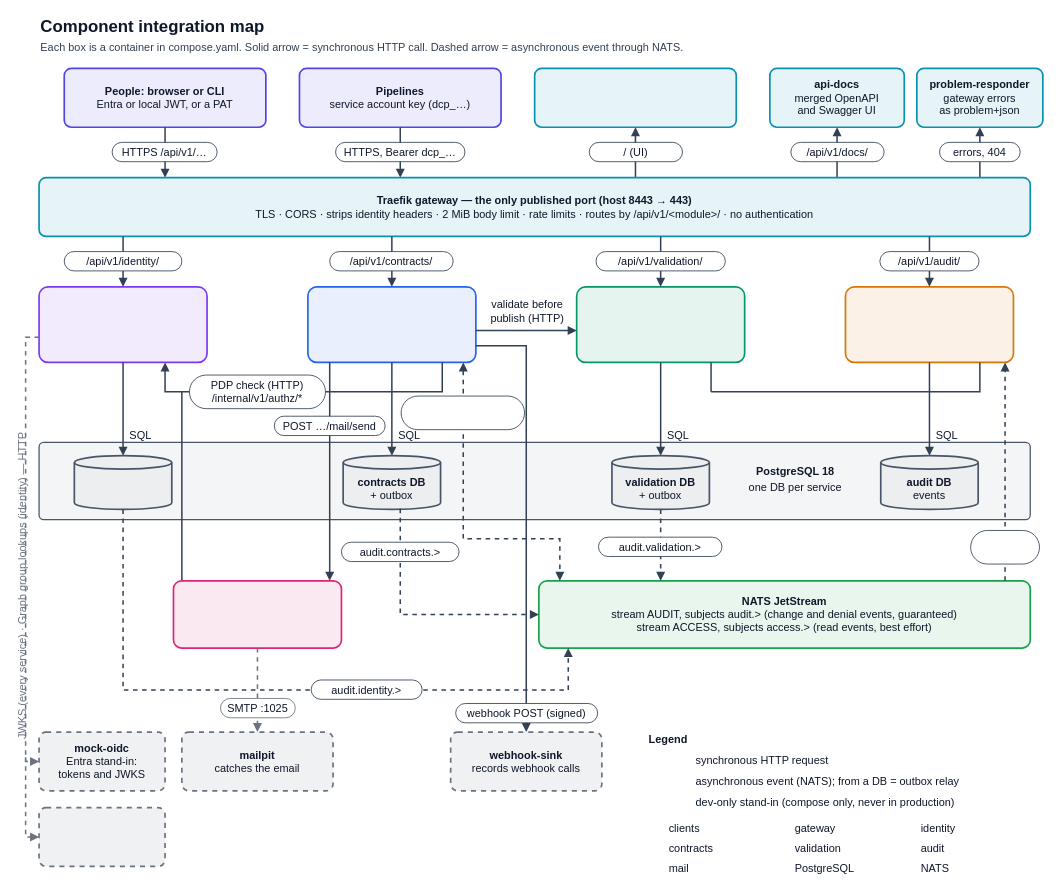
The diagram is 1058 pixels wide and 890 high, and some of its shapes have lost their labels. Each missing label, with the centre of its shape:
2 durable consumers: the point at 1005,547
audit stores events, audit query: the point at 929,324
contracts contracts, versions, cards, notices: the point at 391,324
fake-graph Microsoft Graph stand-in: the point at 101,836
identity DB + outbox: the point at 122,482
identity local login, tokens, folders, grants, PDP: the point at 122,324
mail sends notice email, internal only: the point at 257,614
ui web app (React), sign-in with Entra or a local account: the point at 635,97
validation rule sets, sandbox, publish gate: the point at 660,324
↓ access events ↑ notices consumer: the point at 462,412
